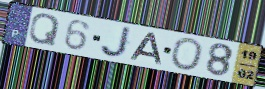6: (63, 19, 91, 52)
8: (204, 42, 235, 77)
A: (128, 31, 164, 67)
J: (99, 25, 134, 59)
O: (169, 37, 205, 72)
Q: (27, 12, 62, 48)
